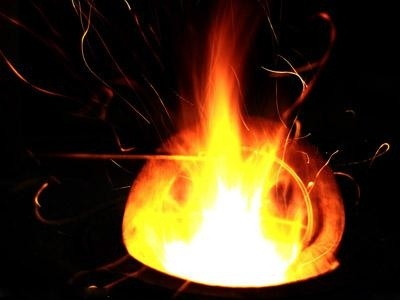fire: (124, 34, 339, 280)
